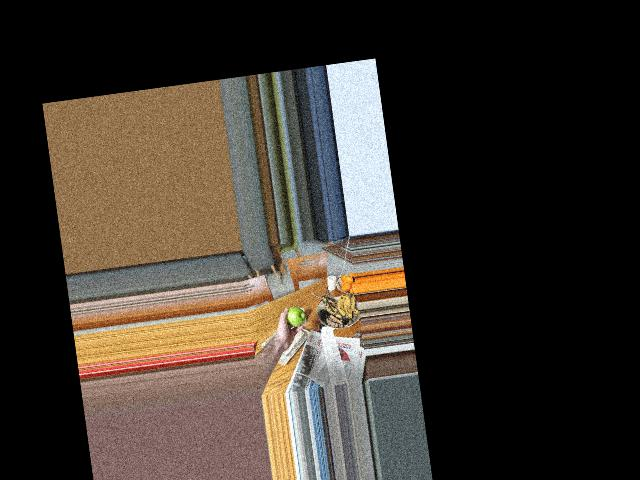apple: (281, 304, 305, 330)
